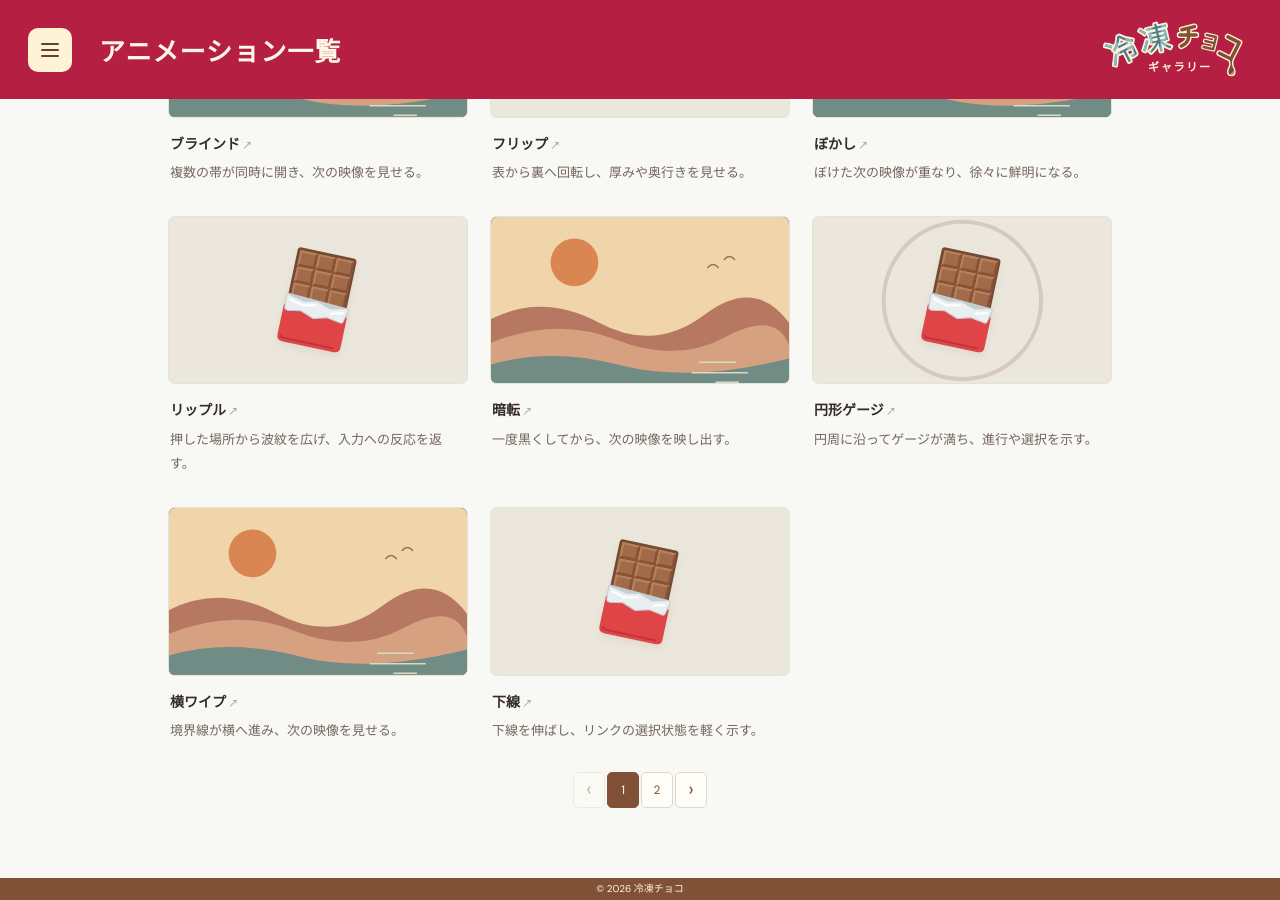
Test: catalog interaction after the React migration › paginates animation-all after sorting and filtering the complete catalog
(page scrolled)
Click the button named "2ページ" at coordinates (657, 790), box [641,772,673,808]
(page scrolled)
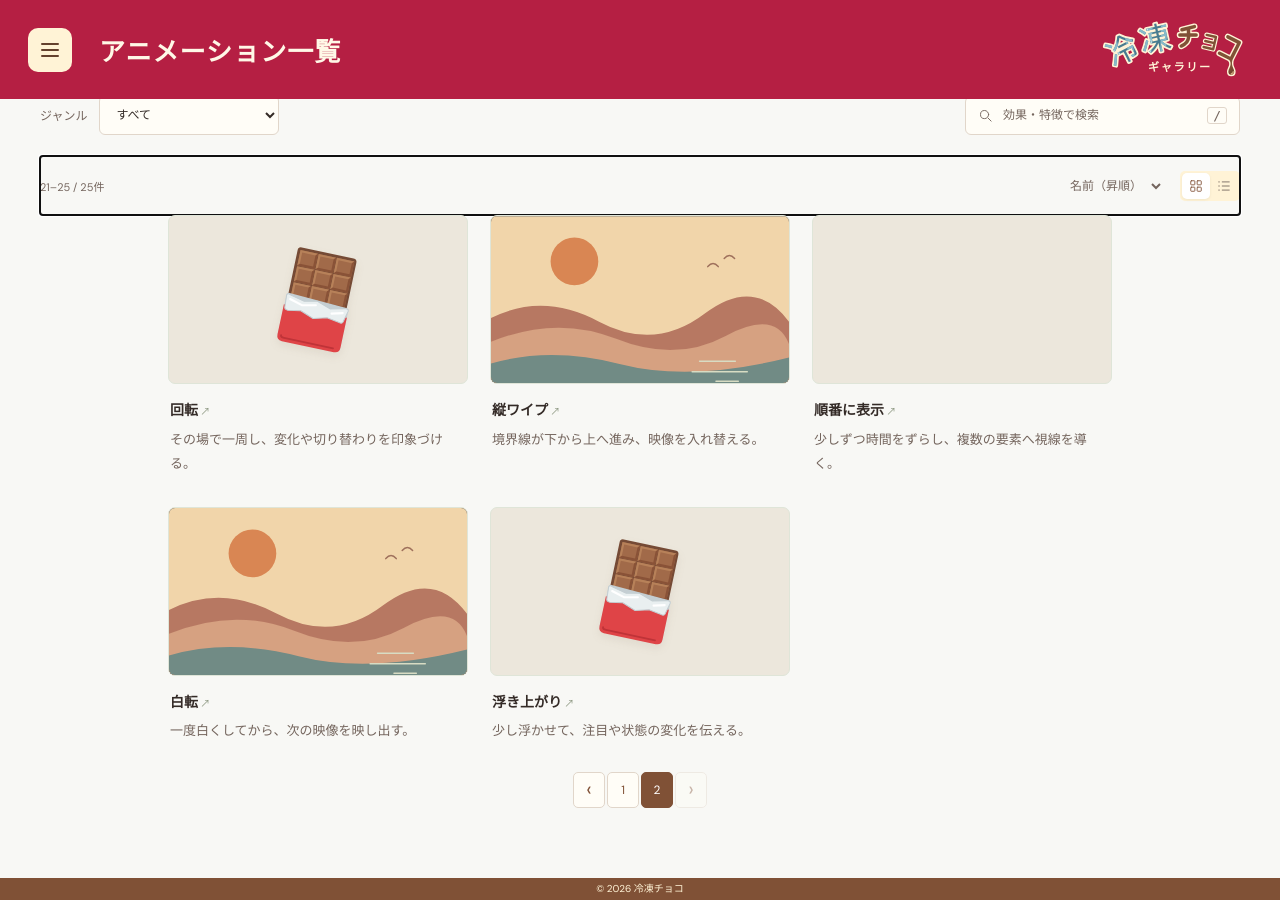
Expected: the number of elements with class "style-card" is 5, [168,215,468,477]; [490,215,790,477]; [812,215,1112,477]; [168,507,468,744]; [490,507,790,744]
Select "名前（降順）" in the dropdown named "並び順" at coordinates (1112, 186), box [1061,172,1164,200]
(page scrolled)
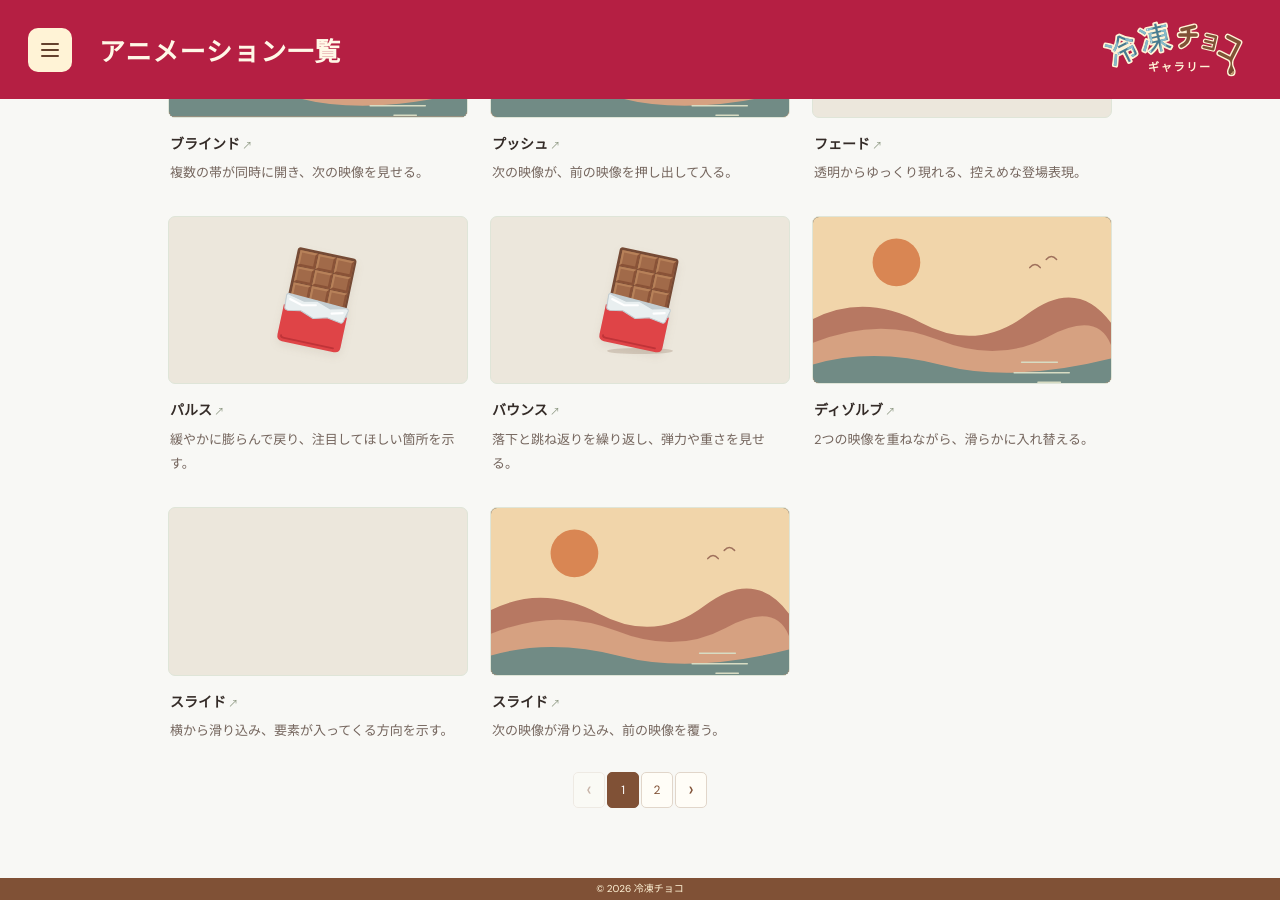
Click the button named "2ページ" at coordinates (657, 790), box [641,772,673,808]
(page scrolled)
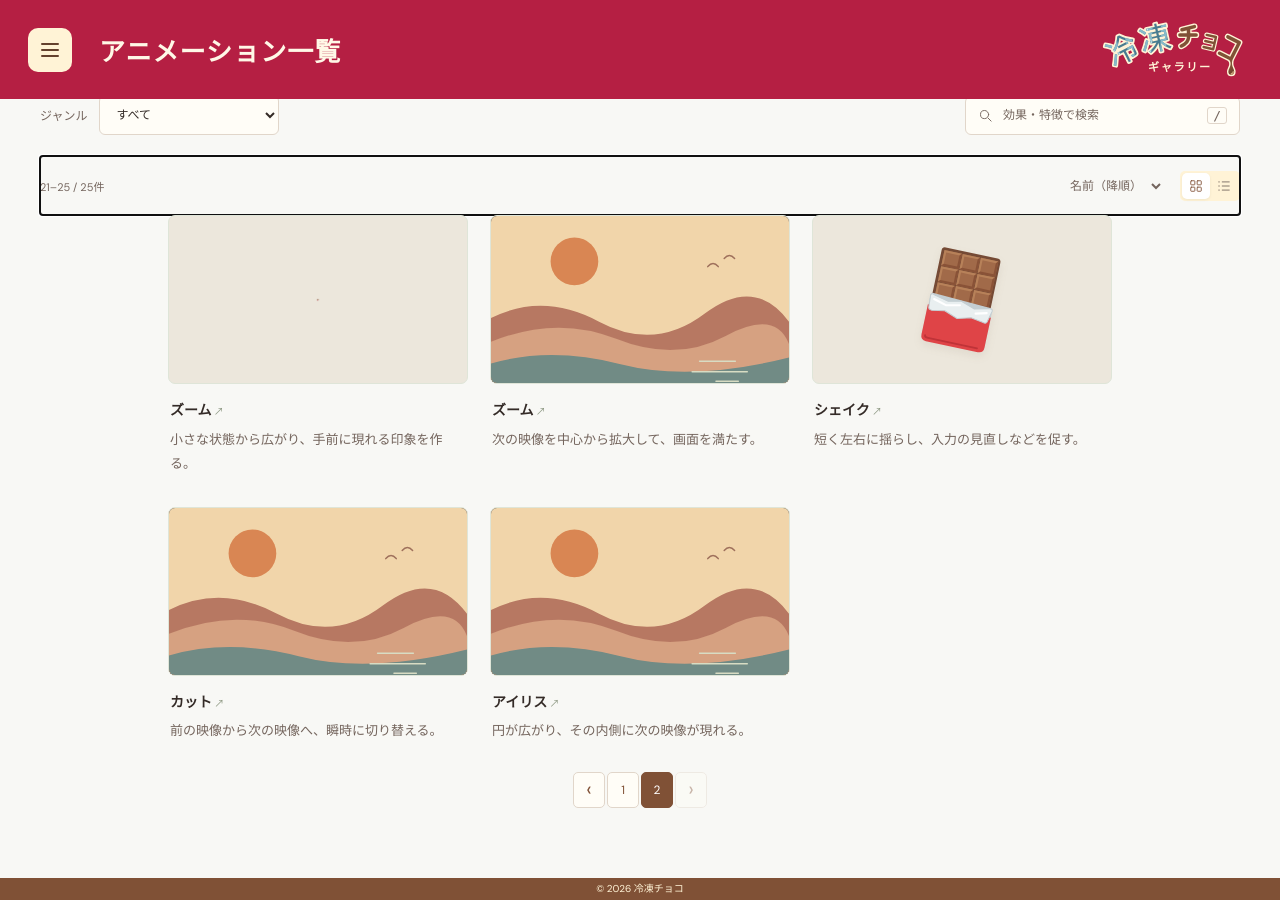
Type "アイリス" into the search field at coordinates (1100, 115), box [1001,106,1199,124]
(page scrolled)
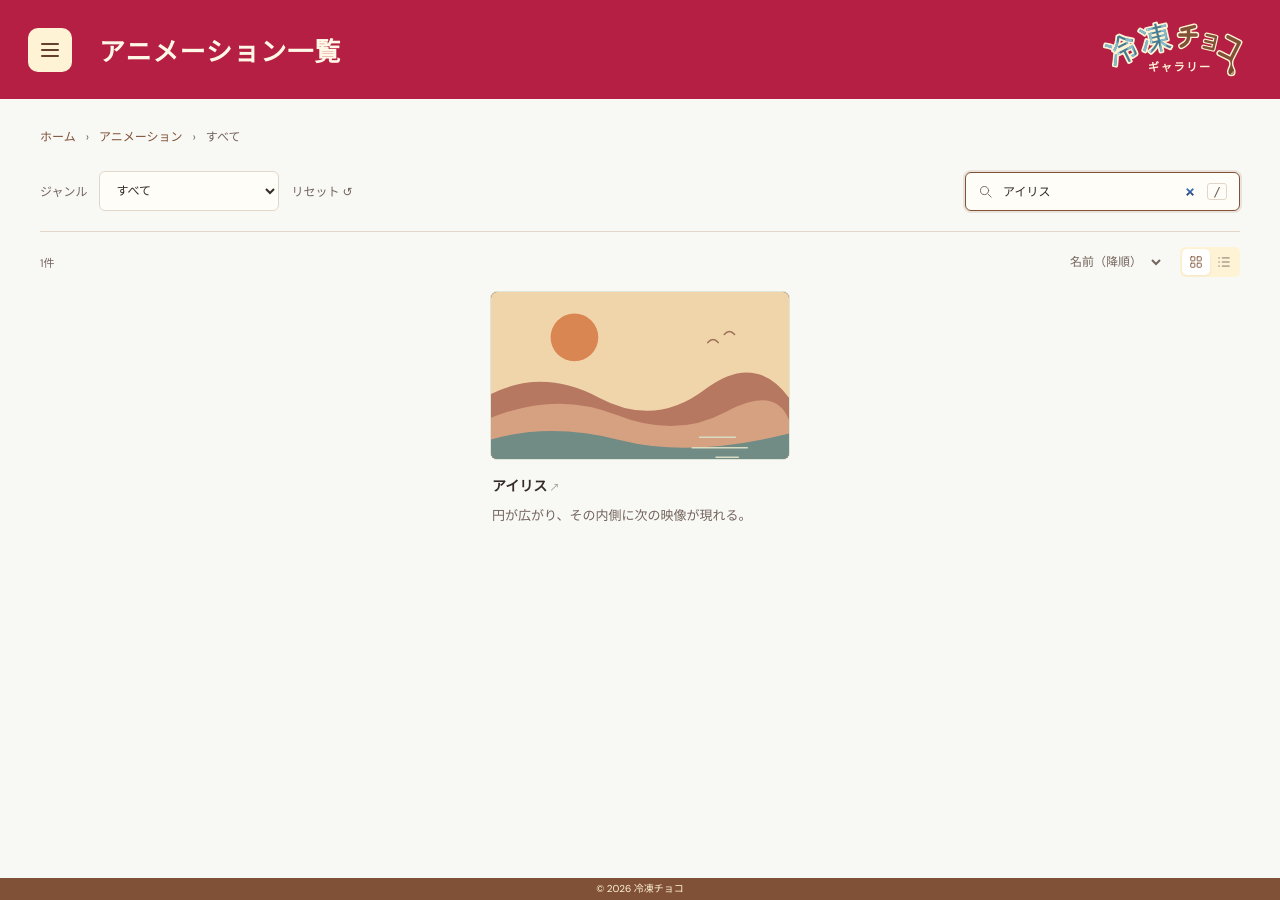
Expected: the button with class "card-title" reads "アイリス", [492,474,560,496]
Expected: the navigation bar "ページ送り" is gone
